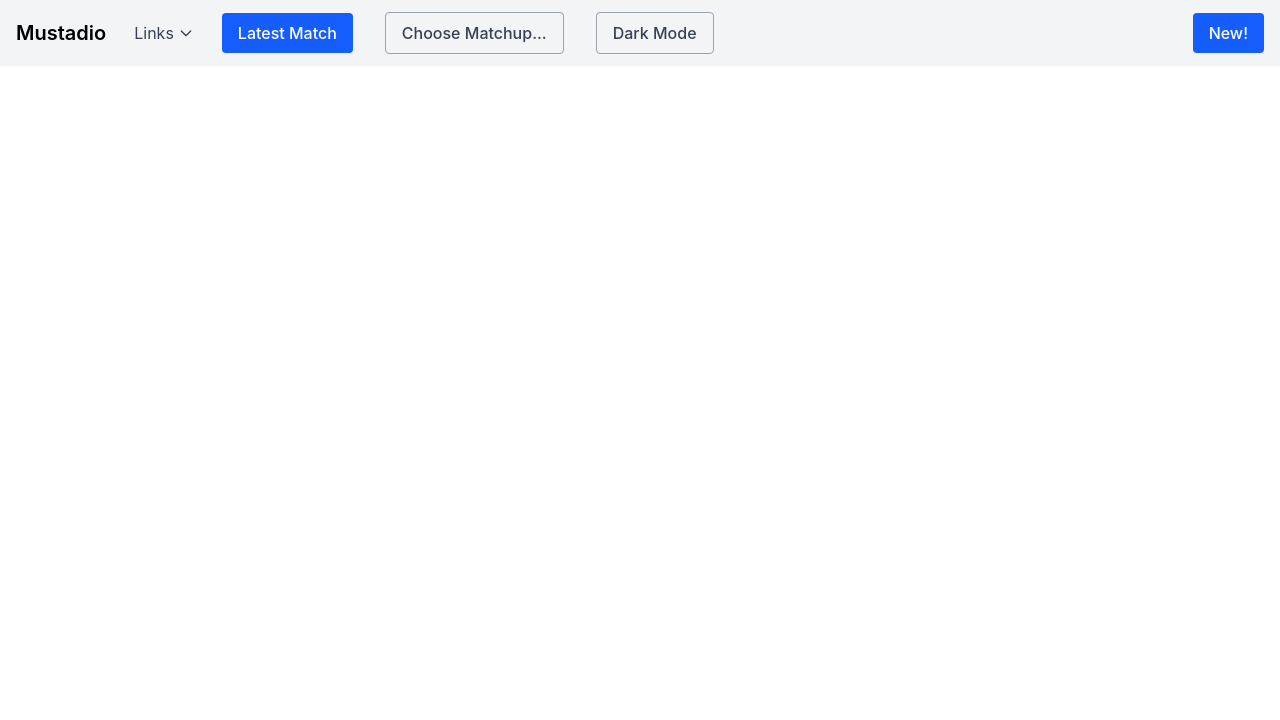
Test: shows the matchup modal when Choose Matchup is clicked
Click the button "Choose Matchup..." at (474,33), box [385,12,564,54]
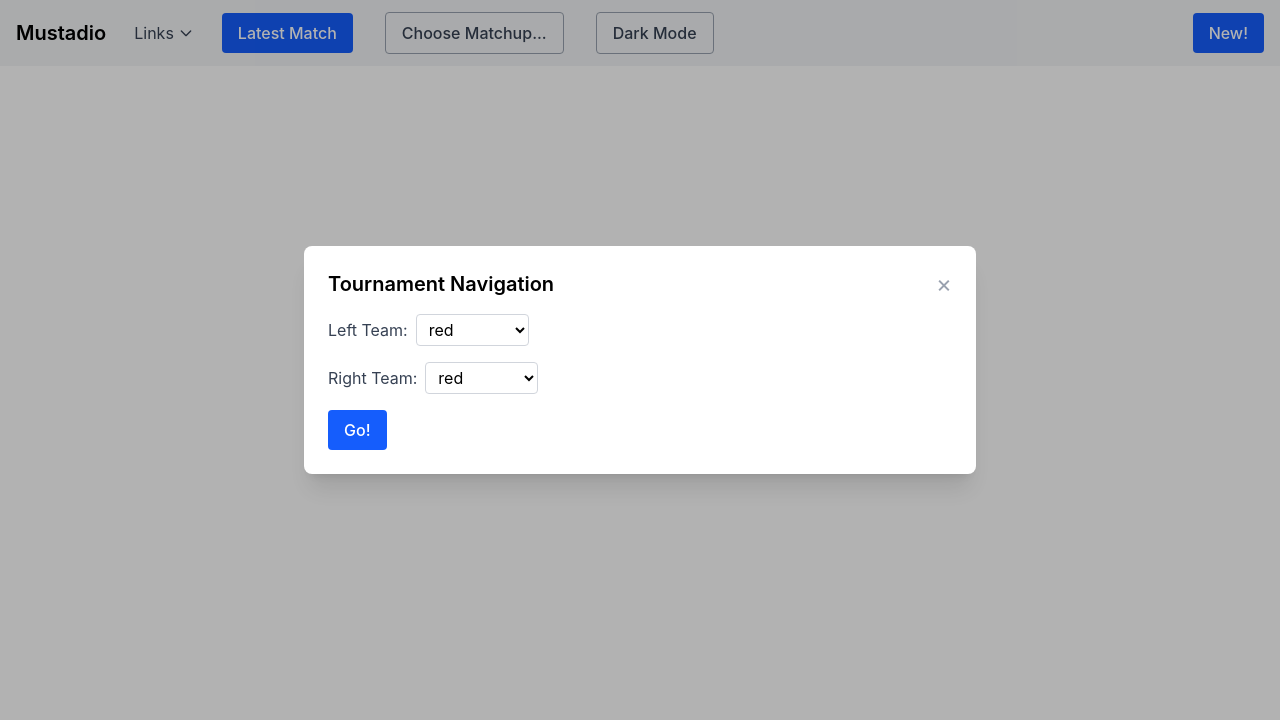
Result: the heading "Tournament Navigation" is shown at [328,270,554,298]
